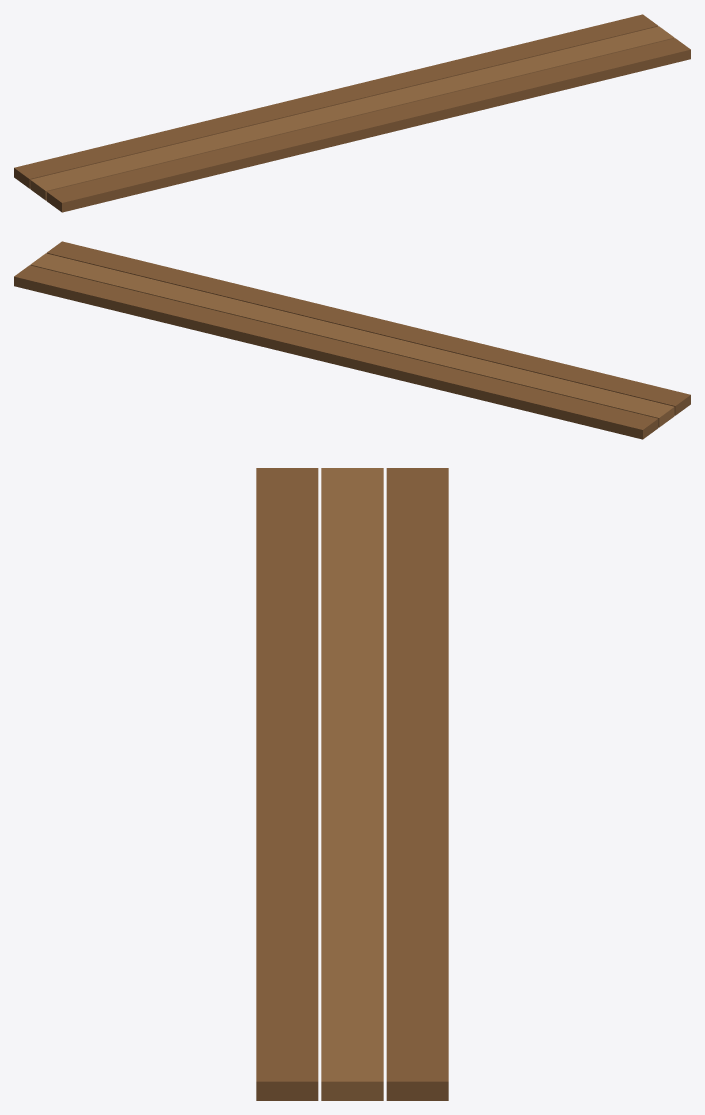
Rendered from boardwalk_plank.glb.
3 views of the same model, one above another, from view 1: azimuth 30°, elevation 25°; view 2: azimuth 150°, elevation 25°; view 3: azimuth 270°, elevation 25° (orthographic). The views are drawn at different scales.
Parts seen in each view (by area): view 1: boardwalk_plank; view 2: boardwalk_plank; view 3: boardwalk_plank.
Part boxes in pixels (box(x1,y1,x2,y2)): boardwalk_plank: box(14, 14, 690, 212); boardwalk_plank: box(14, 241, 690, 439); boardwalk_plank: box(256, 468, 448, 1100).
Bounding box in the file's own units: 17.8 × 0.26 × 2.36.
